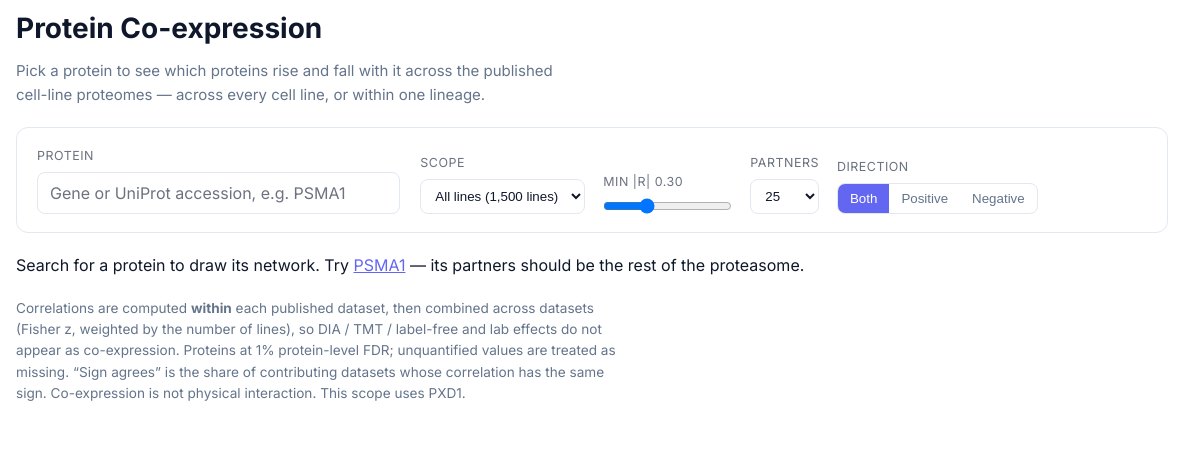
Coexpression view › tells the user when Enter finds no matching protein
Type "NOTAGENE" into the search field with id "coexp-search" at coordinates (219, 193), box [37, 172, 400, 214]
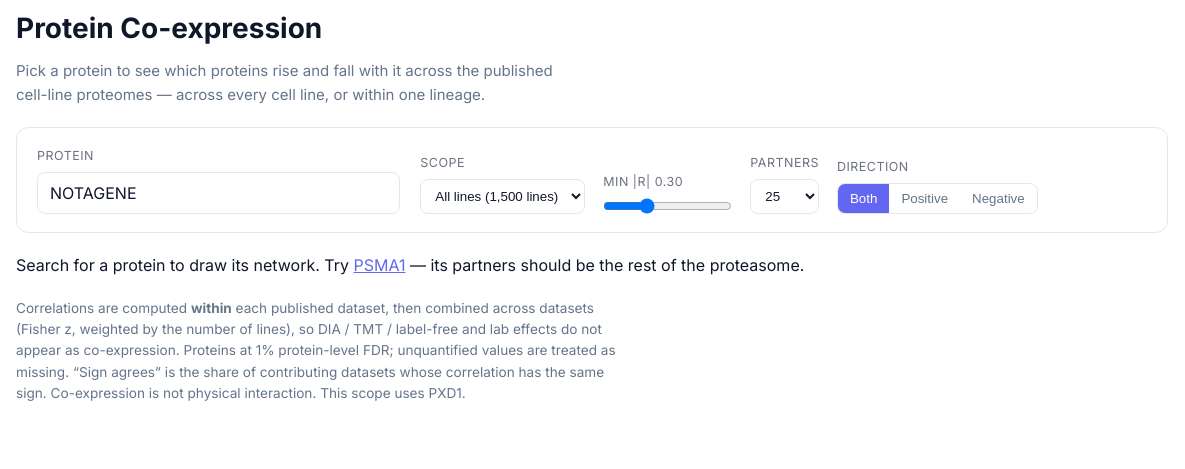
Press Enter in the search field with id "coexp-search", box [37, 172, 400, 214]
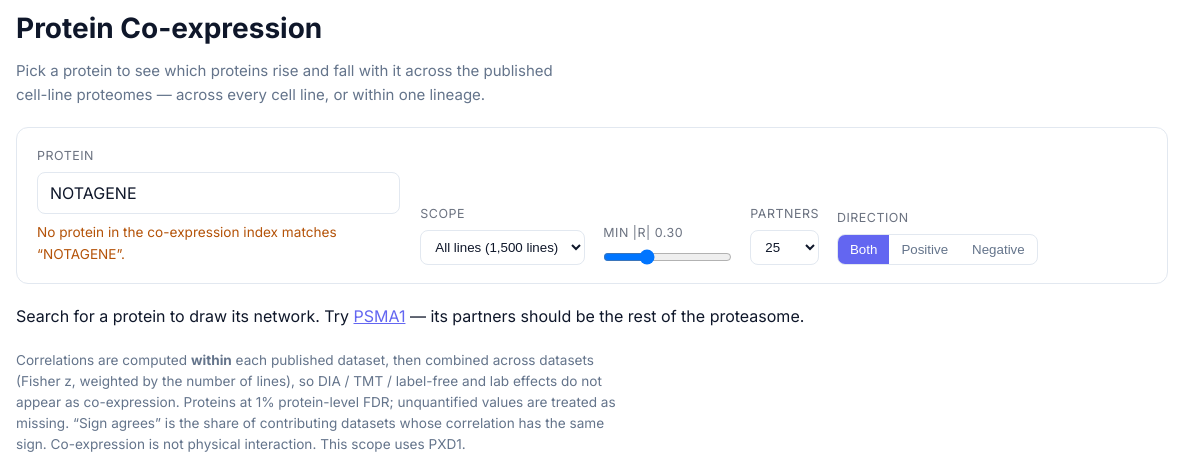
Check: the text "No protein in the co-expression index matches" is shown, box [37, 224, 337, 262]
Replace the text in the search field with id "coexp-search" with "PSMA" at coordinates (219, 193), box [37, 172, 400, 214]
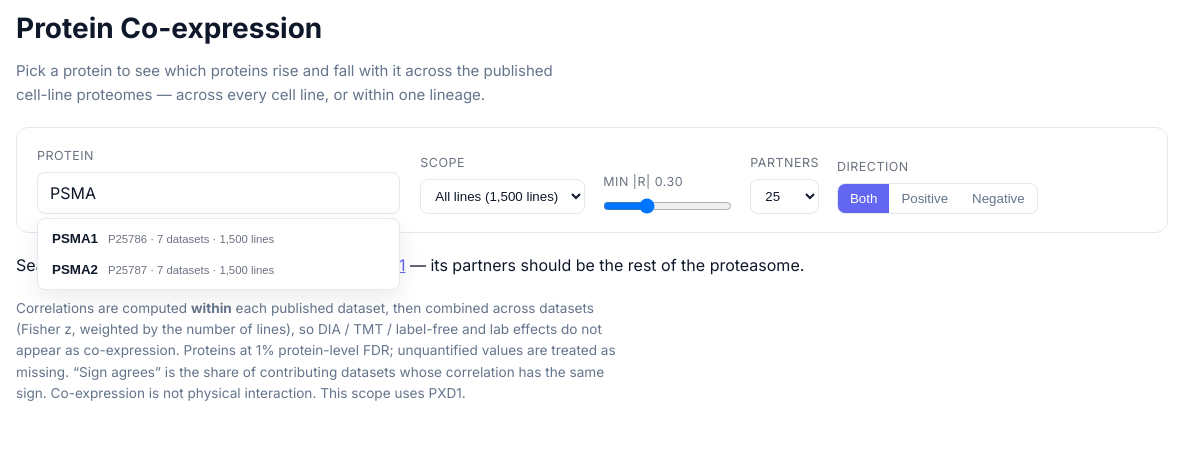
Check: the text "No protein in the co-expression index matches" is gone
